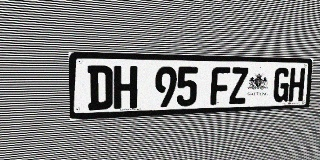5: (177, 67, 198, 107)
9: (155, 66, 177, 107)
D: (87, 65, 113, 110)
F: (210, 67, 230, 105)
G: (273, 68, 290, 102)
H: (114, 66, 137, 109), (288, 68, 305, 102)
Z: (229, 67, 248, 104)
